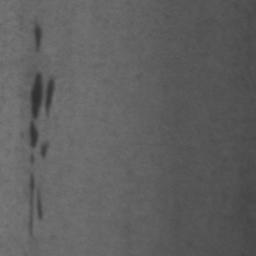Inclusion: (31, 73, 55, 119), (29, 123, 40, 148), (35, 24, 44, 49), (37, 200, 44, 220)
